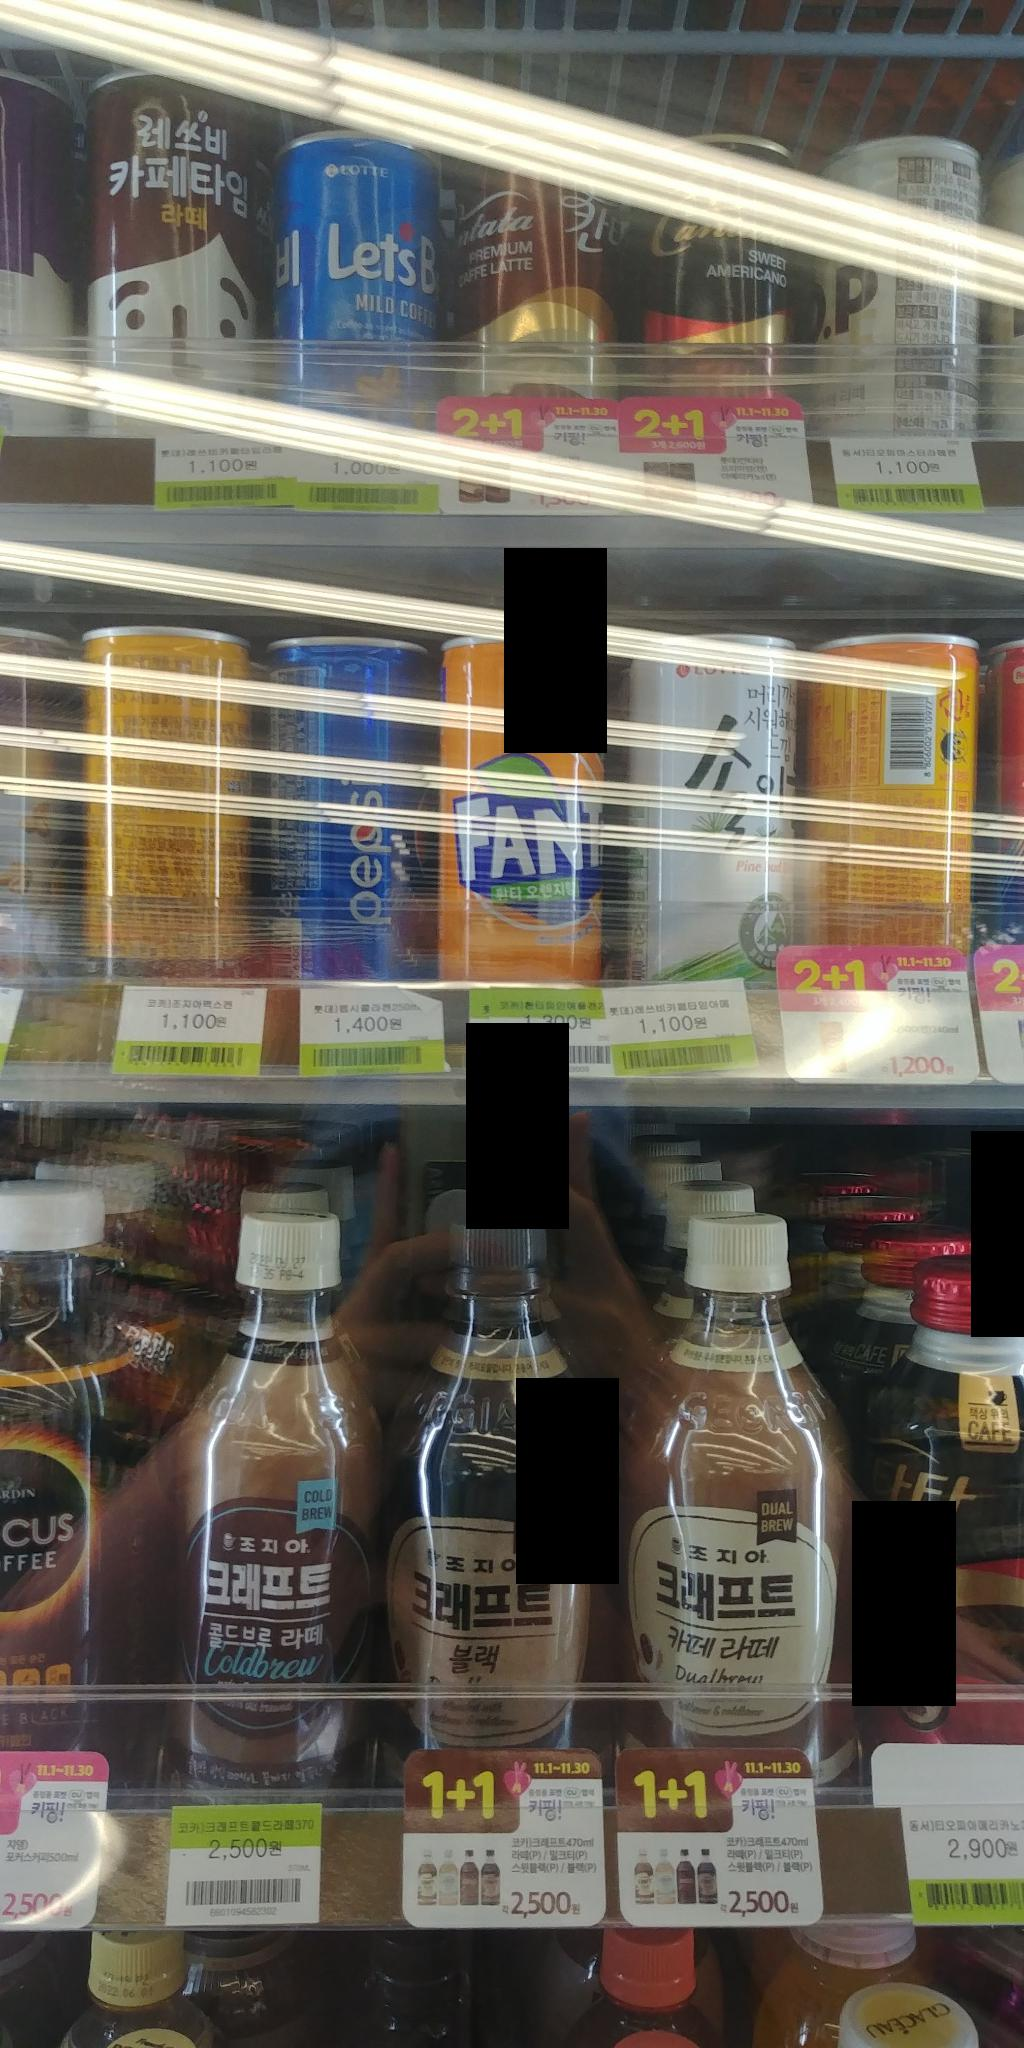georgiacraft_black: (384, 1213, 607, 1775)
letsbe: (266, 111, 443, 448)
